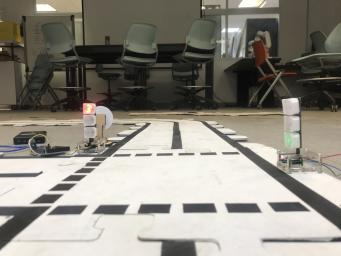street: (0, 120, 341, 255)
traffic_light: (276, 98, 322, 173), (77, 103, 105, 154)
